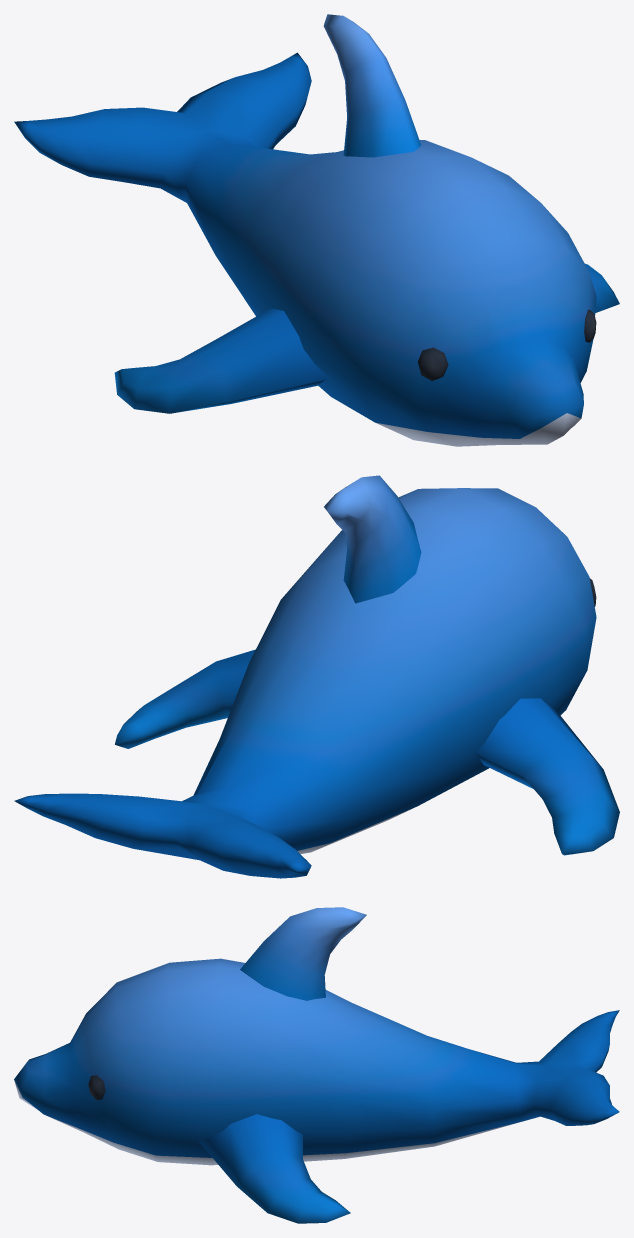
The model's file is dolphin.fbx.
The picture shows the model from 3 angles, top to bottom: view 1: azimuth 30°, elevation 25°; view 2: azimuth 150°, elevation 25°; view 3: azimuth 270°, elevation 25°; orthographic projection. The views are drawn at different scales.
Parts seen in each view (by area): view 1: dolphin; view 2: dolphin; view 3: dolphin.
Part boxes in pixels (x1,y1,x2,y2): dolphin: (14, 14, 619, 446); dolphin: (14, 475, 619, 878); dolphin: (14, 907, 619, 1223).
Bounding box in the file's own units: 37.78 × 24.91 × 56.1.
